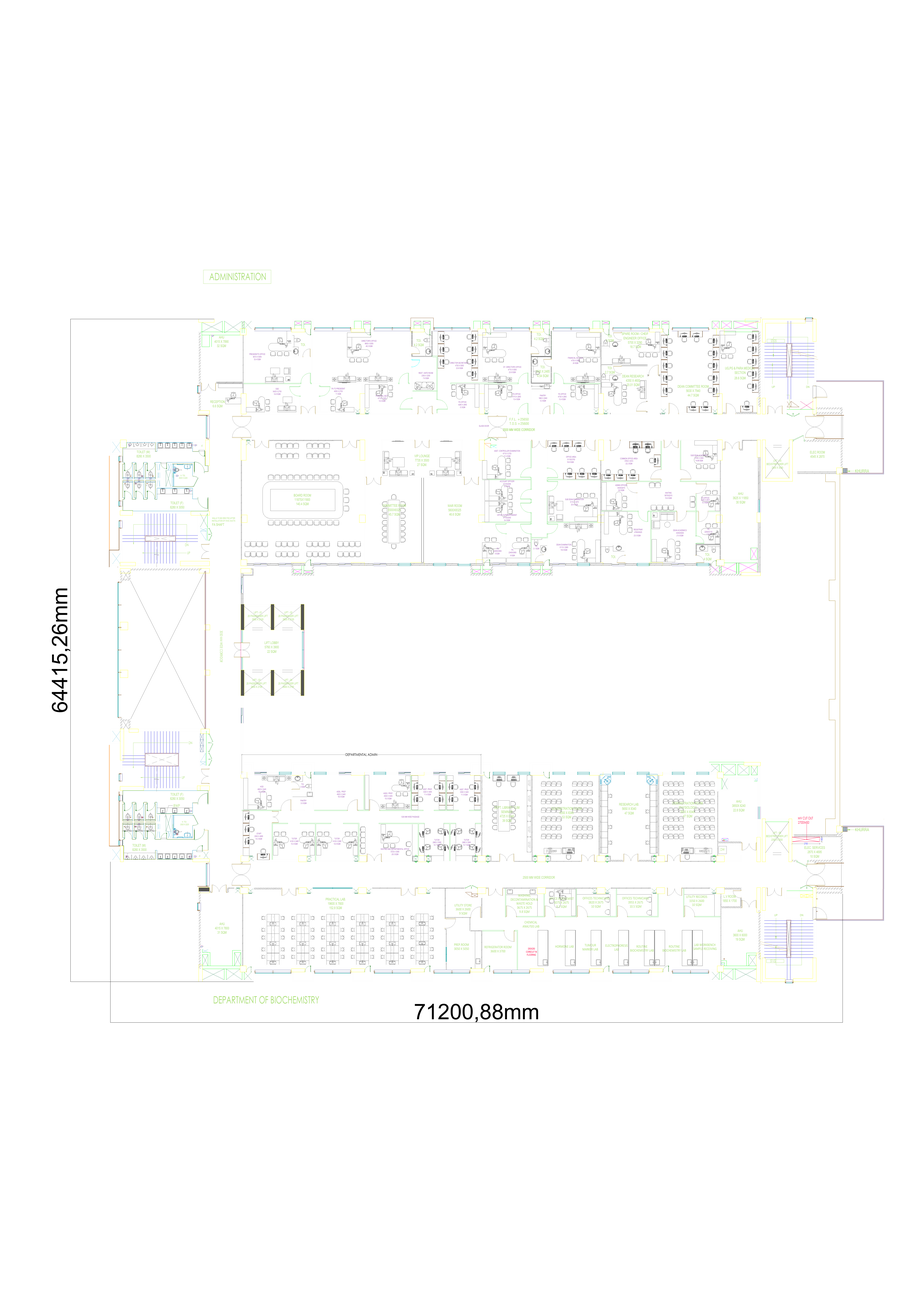door: (232, 863, 251, 886), (806, 863, 825, 886), (232, 415, 251, 438), (488, 415, 507, 438), (805, 415, 824, 438), (234, 643, 250, 657), (814, 907, 827, 920), (400, 398, 413, 410), (814, 386, 827, 398), (201, 768, 210, 784), (201, 544, 210, 559), (401, 887, 416, 896), (488, 887, 503, 896), (667, 887, 682, 896), (767, 887, 782, 896), (197, 497, 208, 509), (504, 930, 515, 942), (347, 799, 358, 811), (369, 799, 380, 811), (289, 386, 301, 397), (300, 373, 312, 384), (520, 523, 532, 534), (520, 502, 532, 513), (520, 489, 532, 500), (520, 467, 532, 478), (211, 885, 227, 893), (741, 900, 757, 908), (741, 842, 757, 850), (623, 854, 639, 862), (366, 854, 382, 862), (417, 406, 433, 414), (414, 440, 430, 448), (366, 477, 382, 485), (767, 406, 783, 414), (724, 442, 740, 450), (531, 440, 547, 448), (194, 462, 205, 473), (194, 829, 205, 840), (197, 793, 208, 804), (684, 906, 695, 917), (617, 906, 628, 917), (577, 906, 588, 917), (506, 906, 517, 917), (470, 907, 481, 918), (445, 918, 456, 929), (319, 386, 330, 397), (398, 373, 409, 384), (437, 399, 448, 410), (518, 403, 529, 414), (553, 403, 564, 414), (636, 401, 647, 412), (668, 403, 679, 414), (725, 403, 736, 414), (648, 365, 659, 376), (553, 373, 564, 384), (518, 373, 529, 384), (610, 440, 621, 451), (585, 440, 596, 451), (680, 469, 691, 480), (696, 483, 707, 494), (651, 469, 662, 480), (626, 482, 637, 493), (638, 511, 649, 522), (676, 511, 687, 522), (547, 481, 558, 492), (547, 523, 558, 534), (496, 523, 507, 534), (281, 888, 296, 896), (499, 854, 514, 862), (281, 799, 291, 811), (201, 383, 216, 391), (254, 440, 269, 448), (301, 406, 316, 414), (342, 440, 357, 448), (464, 477, 479, 485), (664, 440, 679, 448), (545, 906, 555, 917), (698, 511, 708, 522), (547, 468, 558, 478), (667, 855, 681, 862), (581, 855, 595, 862), (272, 811, 279, 823), (135, 802, 144, 811), (542, 405, 551, 414), (124, 462, 132, 471), (136, 462, 144, 471), (147, 462, 155, 471), (124, 491, 133, 499), (147, 802, 155, 811), (124, 802, 132, 811), (291, 781, 300, 789), (411, 346, 420, 354), (411, 359, 420, 367), (613, 366, 622, 374), (613, 332, 622, 340), (617, 555, 626, 563), (535, 554, 543, 563), (136, 491, 144, 499), (147, 491, 155, 499), (124, 831, 132, 839), (136, 831, 144, 839), (147, 831, 155, 839), (733, 890, 741, 898), (303, 349, 311, 357), (544, 359, 552, 367), (696, 536, 704, 544), (696, 555, 704, 563), (531, 346, 539, 354), (543, 559, 550, 566), (161, 462, 167, 469), (197, 845, 203, 852), (305, 559, 311, 566), (543, 772, 550, 778), (543, 329, 550, 335), (484, 559, 490, 566), (199, 450, 205, 456), (161, 833, 167, 839), (663, 966, 669, 972), (305, 966, 311, 972), (365, 966, 371, 972), (424, 966, 430, 972), (484, 966, 490, 972), (603, 966, 609, 972), (305, 772, 311, 778), (484, 772, 490, 778), (305, 329, 311, 335), (365, 329, 371, 335), (424, 329, 430, 335), (603, 329, 609, 335), (663, 329, 669, 335), (711, 560, 717, 566), (246, 967, 252, 972), (486, 329, 491, 334)
